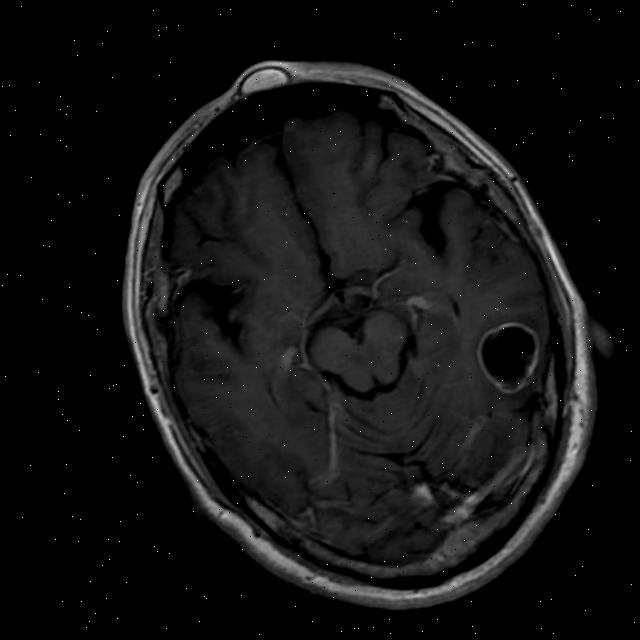Glioma: (468, 312, 553, 401)
